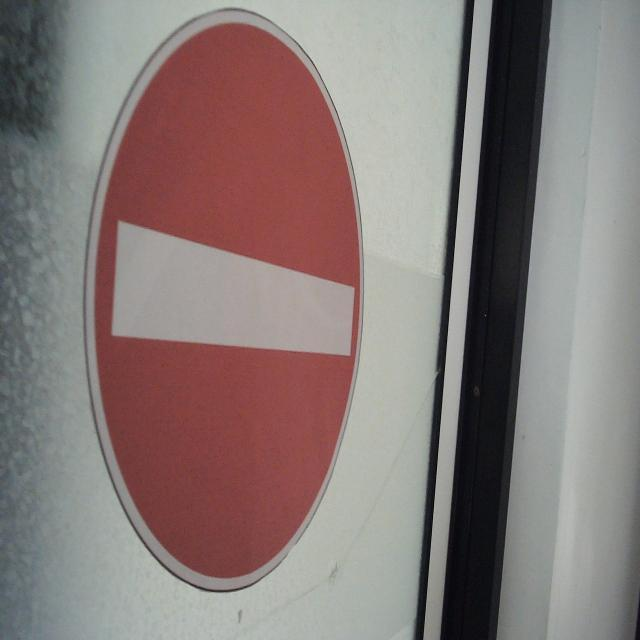no_entry: (81, 6, 367, 596)
